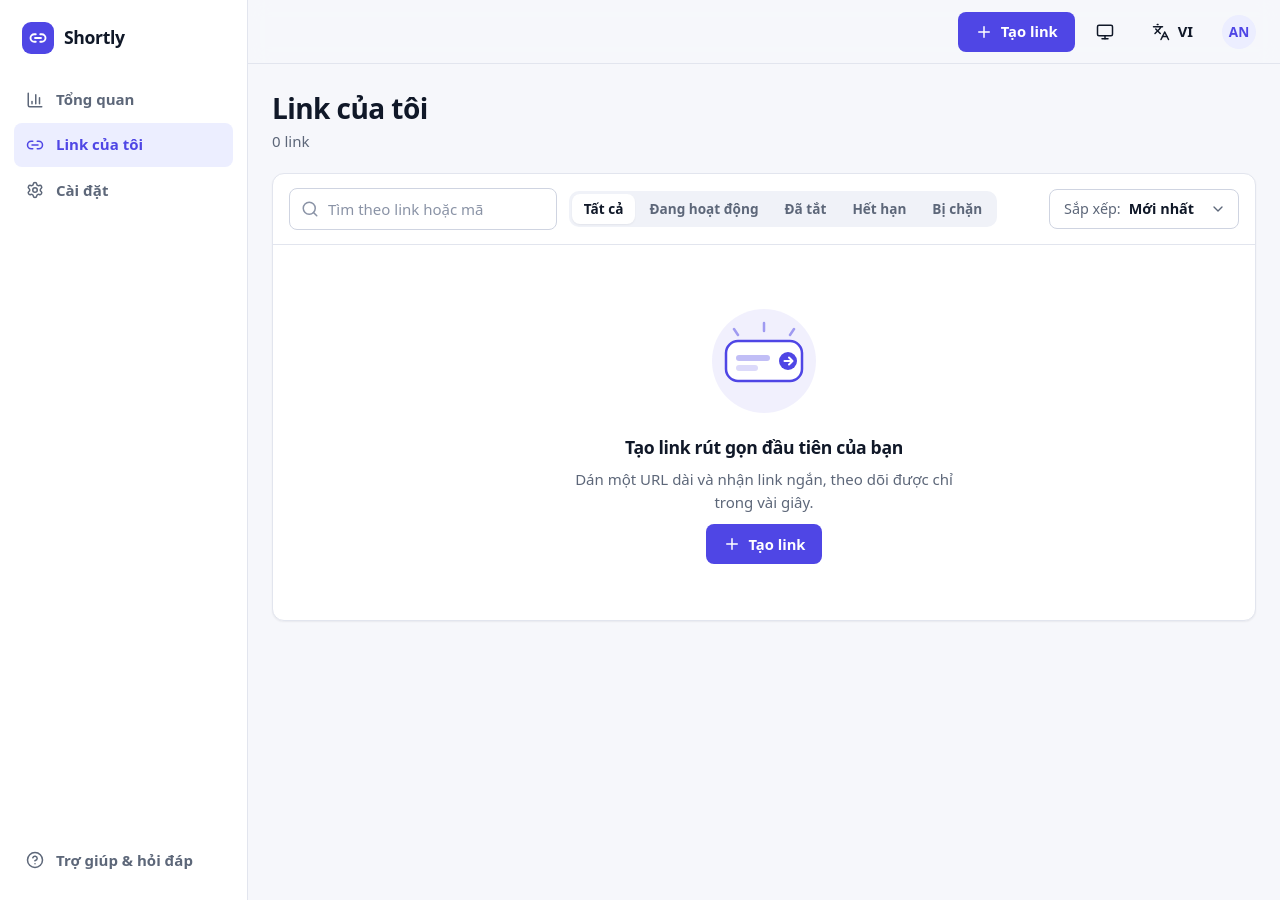
Test: thanh bên của khung ứng dụng › bấm Trợ giúp & hỏi đáp mở trang chủ và cuộn tới phần Hỏi đáp
expect the heading "Link của tôi" is shown: met, box [272,92,428,126]
Click the link "Trợ giúp & hỏi đáp": (109, 860) [26,850,193,870]
(page scrolled)
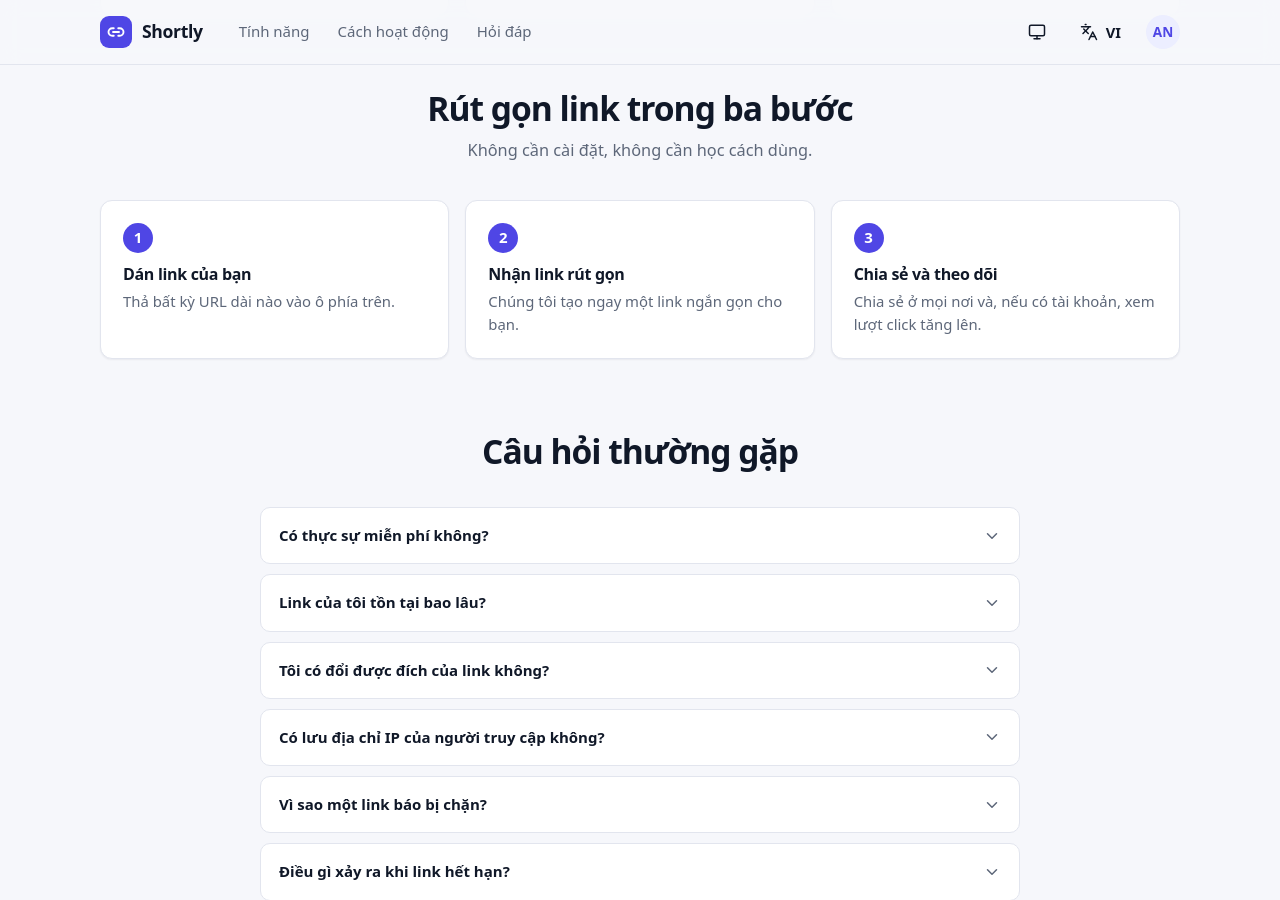
expect the heading "Câu hỏi thường gặp" is shown: met, box [482,428,798,474]
